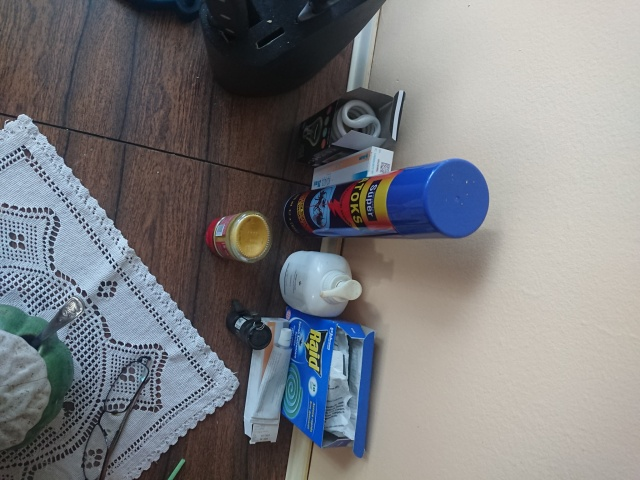Kotanyi Curry Spices Mix 70g: (203, 208, 276, 266)
